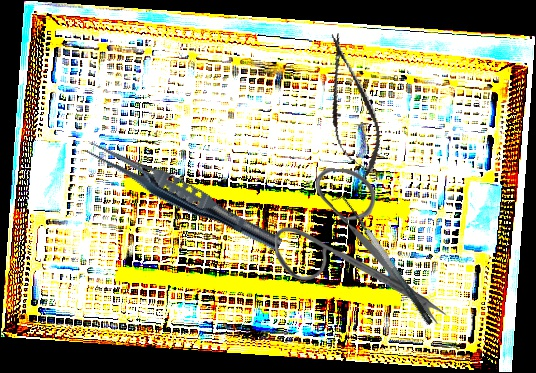Iris Scissors: (273, 167, 450, 325)
Micro Scissor: (313, 28, 389, 182)
Spatula Surgical: (330, 188, 435, 333)
Tissue Forceps: (79, 134, 288, 257)
